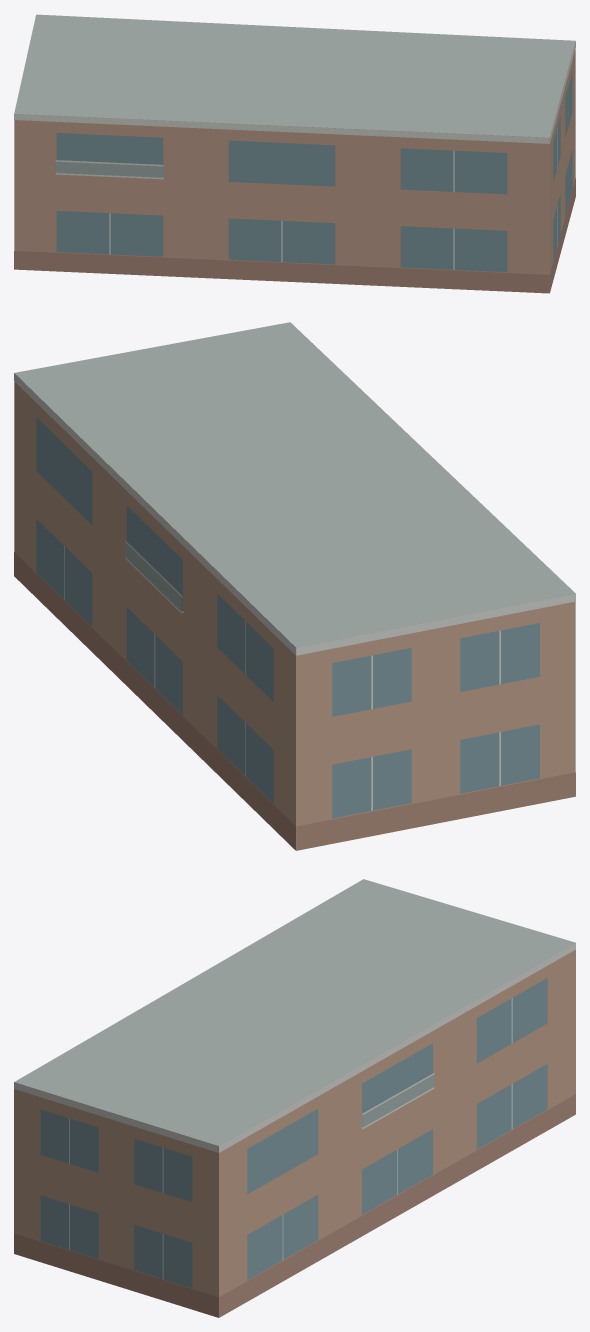
File: survey-upis-32500212.glb
3 views of the same model, one above another, from view 1: azimuth 30°, elevation 25°; view 2: azimuth 150°, elevation 25°; view 3: azimuth 270°, elevation 25° (orthographic). The views are drawn at different scales.
Parts seen in each view (by area): view 1: survey-upis-32500212.tmp; view 2: survey-upis-32500212.tmp; view 3: survey-upis-32500212.tmp.
Boxes of the visible parts, bbox=[...] form: survey-upis-32500212.tmp: bbox=[14, 14, 575, 293]; survey-upis-32500212.tmp: bbox=[14, 322, 575, 850]; survey-upis-32500212.tmp: bbox=[14, 879, 575, 1317].
Bounding box in the file's own units: 20.34 × 6.1 × 18.08.
